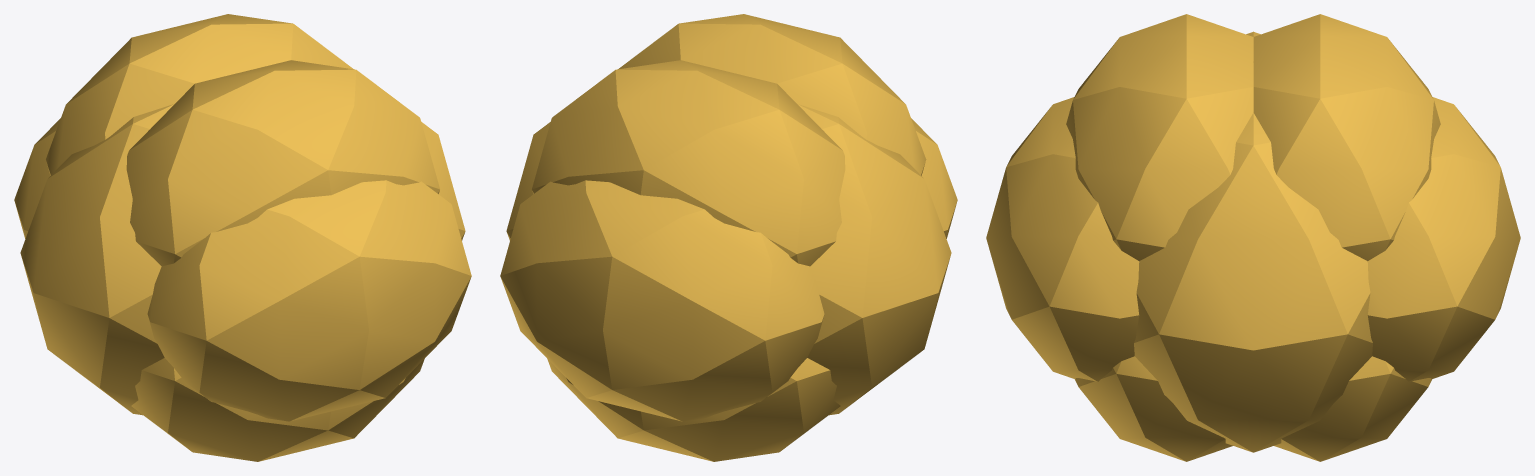
The model's file is hexTankExplosion.glb.
The picture shows the model from 3 angles, left to right: view 1: azimuth 30°, elevation 25°; view 2: azimuth 150°, elevation 25°; view 3: azimuth 270°, elevation 25°; orthographic projection. The views are drawn at different scales.
Visible parts, largest first — view 1: mergedBlocks(Clone); view 2: mergedBlocks(Clone); view 3: mergedBlocks(Clone).
Part boxes in pixels (x1=…): mergedBlocks(Clone): x1=14, y1=14, x2=471, y2=461; mergedBlocks(Clone): x1=500, y1=14, x2=957, y2=461; mergedBlocks(Clone): x1=986, y1=14, x2=1520, y2=461.
Bounding box in the file's own units: 1.92 × 1.67 × 2.
